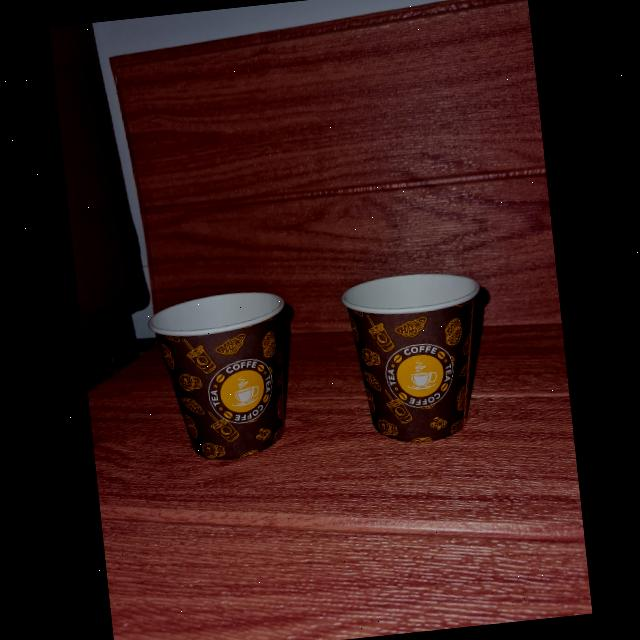trash: (142, 284, 302, 469), (336, 266, 496, 448)
